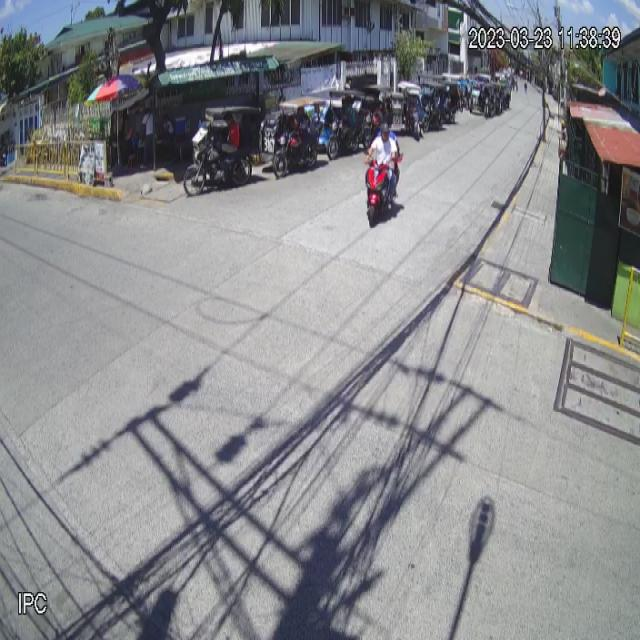Motorcycle: (362, 148, 404, 228)
